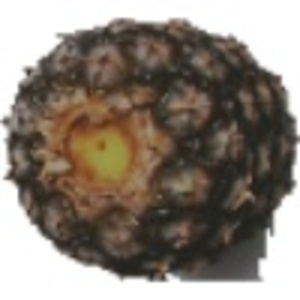abacaxi: (11, 12, 283, 270)
